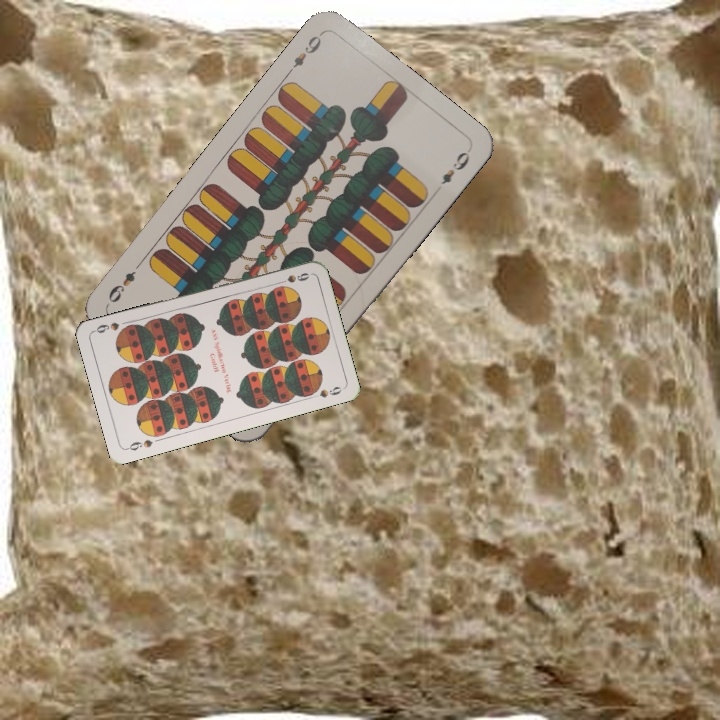E9: (282, 29, 325, 78)
S9: (272, 268, 312, 287), (123, 435, 155, 453)
